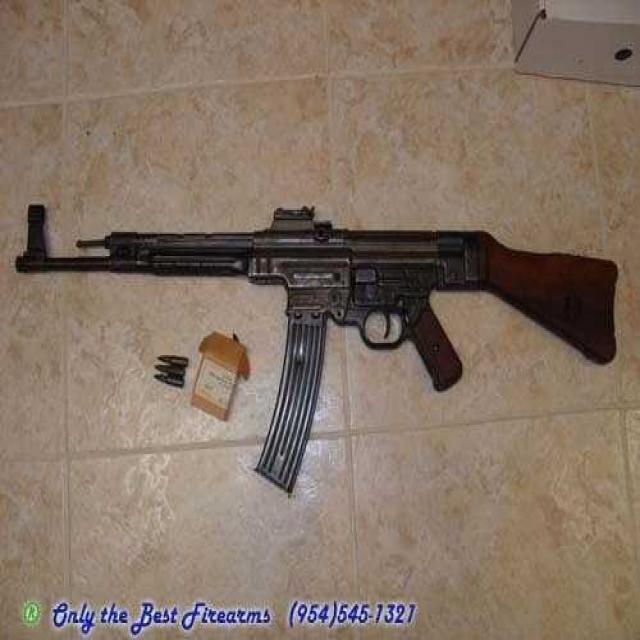weapon: (9, 190, 640, 516)
